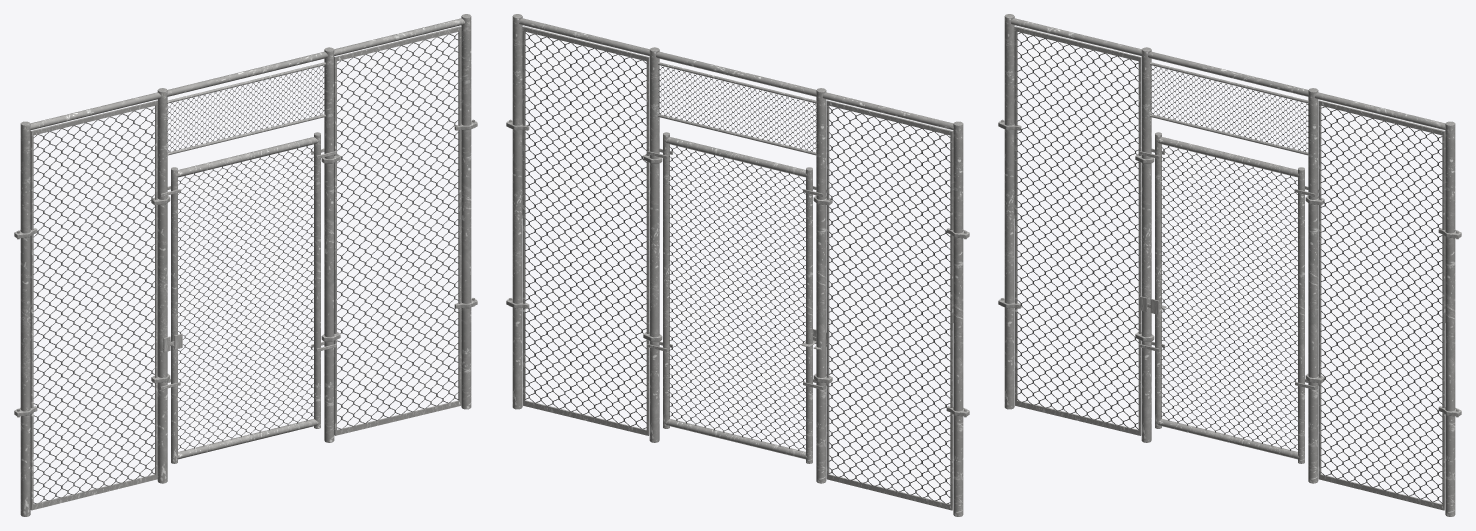
Rendered from SM_Fence_Door.glb.
3 renders of one model, left to right at view 1: azimuth 30°, elevation 25°; view 2: azimuth 150°, elevation 25°; view 3: azimuth 330°, elevation 25°, orthographic.
Visible parts, largest first — view 1: SM_Fence_Door; view 2: SM_Fence_Door; view 3: SM_Fence_Door.
Part boxes in pixels (x1,y1,x2,y2): SM_Fence_Door: (14, 14, 477, 516); SM_Fence_Door: (506, 14, 969, 516); SM_Fence_Door: (998, 14, 1461, 516).
Bounding box in the file's own units: 3.25 × 2.64 × 0.0966.
Materials: 2 (2 with a texture image).
